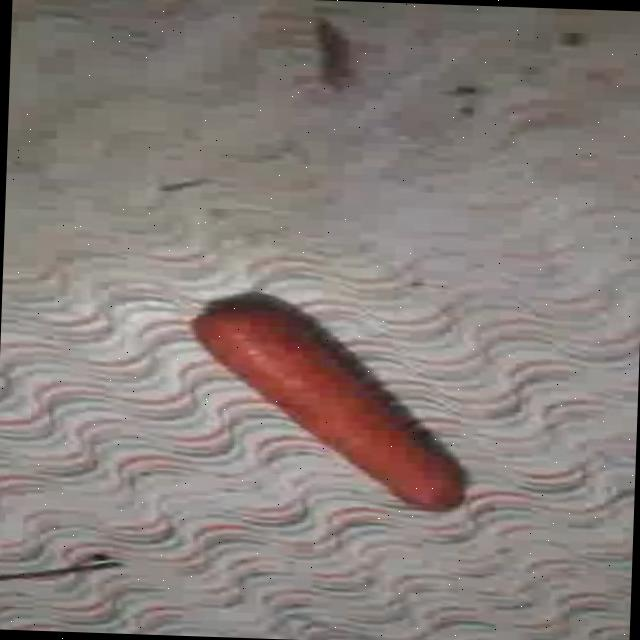carrot: (193, 292, 465, 511)
